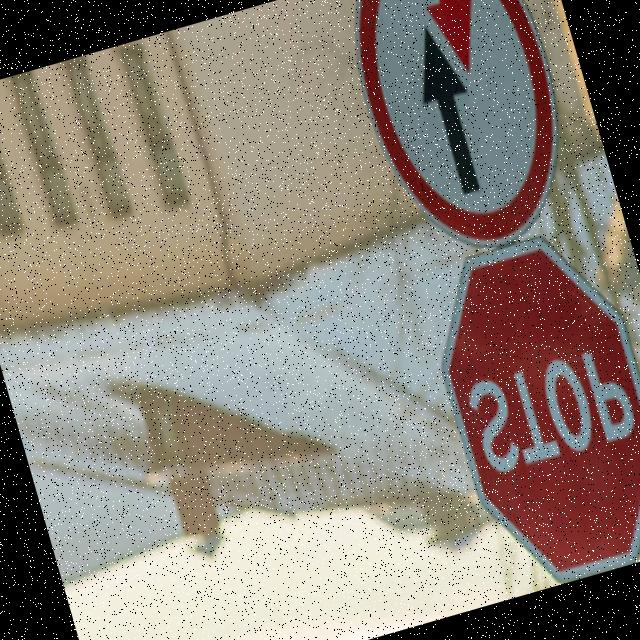stop: (407, 218, 640, 601)
